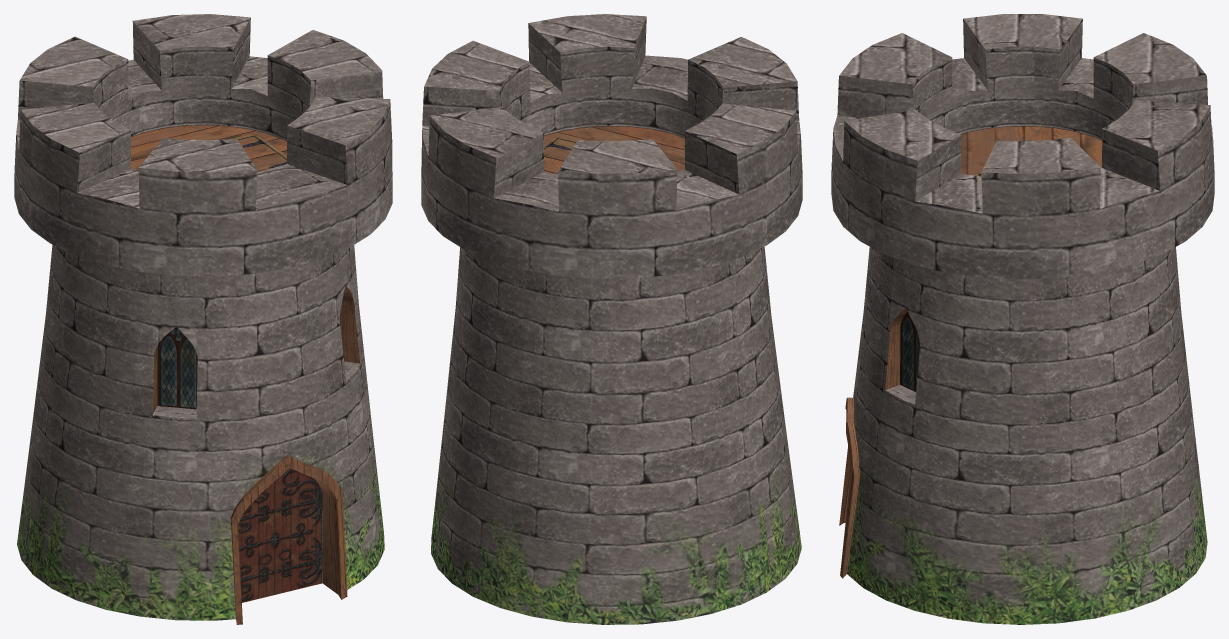
Rendered from Castle.fbx.
3 views of the same model, side by side, from view 1: azimuth 30°, elevation 25°; view 2: azimuth 150°, elevation 25°; view 3: azimuth 270°, elevation 25° (orthographic).
Parts seen in each view (by area): view 1: Castle_2; view 2: Castle_2; view 3: Castle_2.
Part boxes in pixels (x1=…): Castle_2: x1=14, y1=14, x2=392, y2=624; Castle_2: x1=421, y1=14, x2=802, y2=624; Castle_2: x1=831, y1=14, x2=1214, y2=624.
Size of the model in its own units: 2.24 by 2.96 by 2.24.
2 materials, 2 textured.
